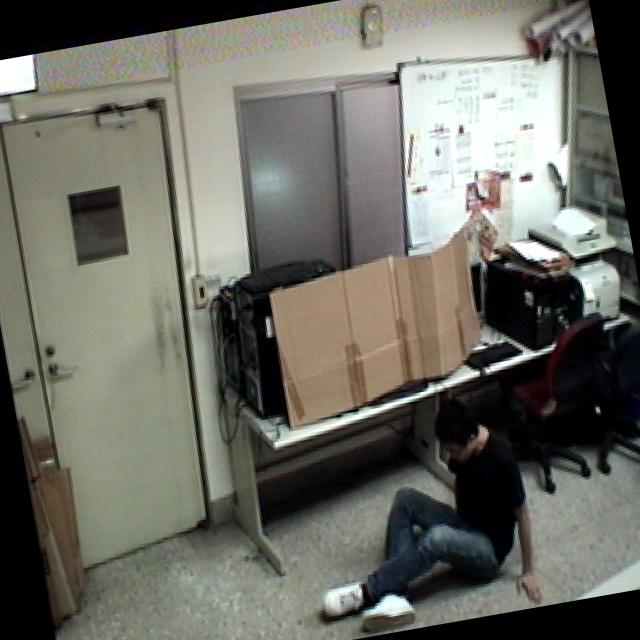sit: (278, 377, 551, 640)
